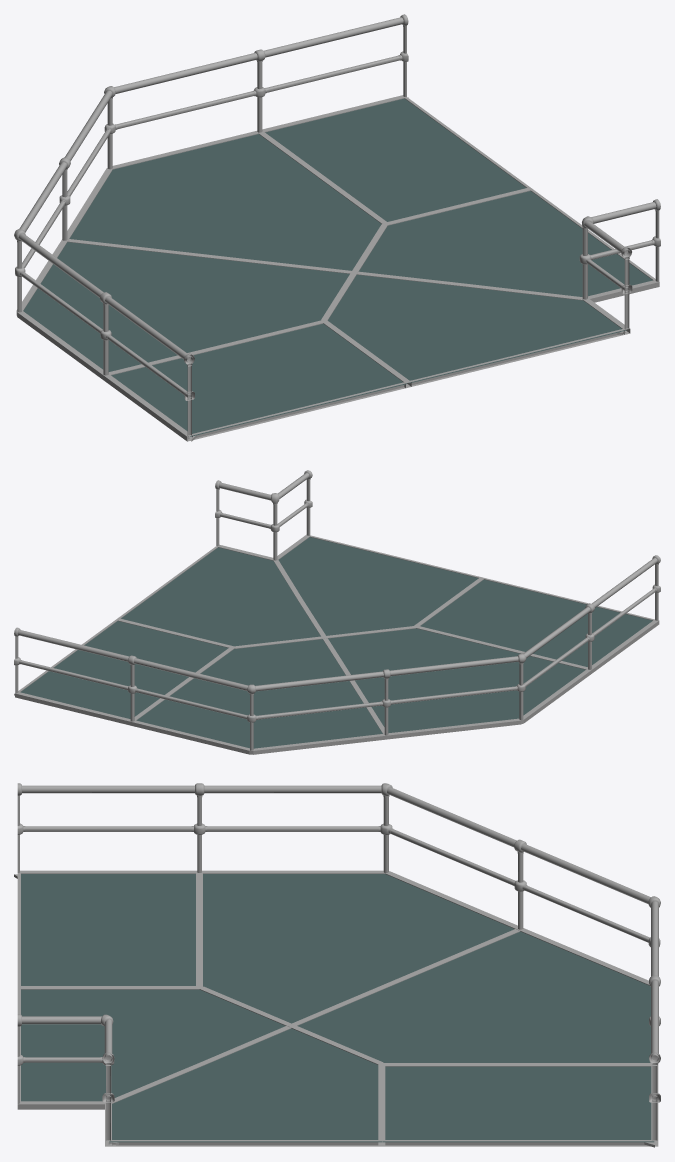
The model's file is L_RailWalk_Corner.fbx.
3 views of the same model, one above another, from view 1: azimuth 30°, elevation 25°; view 2: azimuth 150°, elevation 25°; view 3: azimuth 270°, elevation 25° (orthographic). The views are drawn at different scales.
Parts seen in each view (by area): view 1: Large_RailWalk_Corner; view 2: Large_RailWalk_Corner; view 3: Large_RailWalk_Corner.
Boxes of the visible parts, x1=… form: Large_RailWalk_Corner: x1=14, y1=14, x2=660, y2=441; Large_RailWalk_Corner: x1=14, y1=470, x2=660, y2=754; Large_RailWalk_Corner: x1=14, y1=783, x2=660, y2=1147.
Bounding box in the file's own units: 5.33 × 0.8493 × 5.33.
